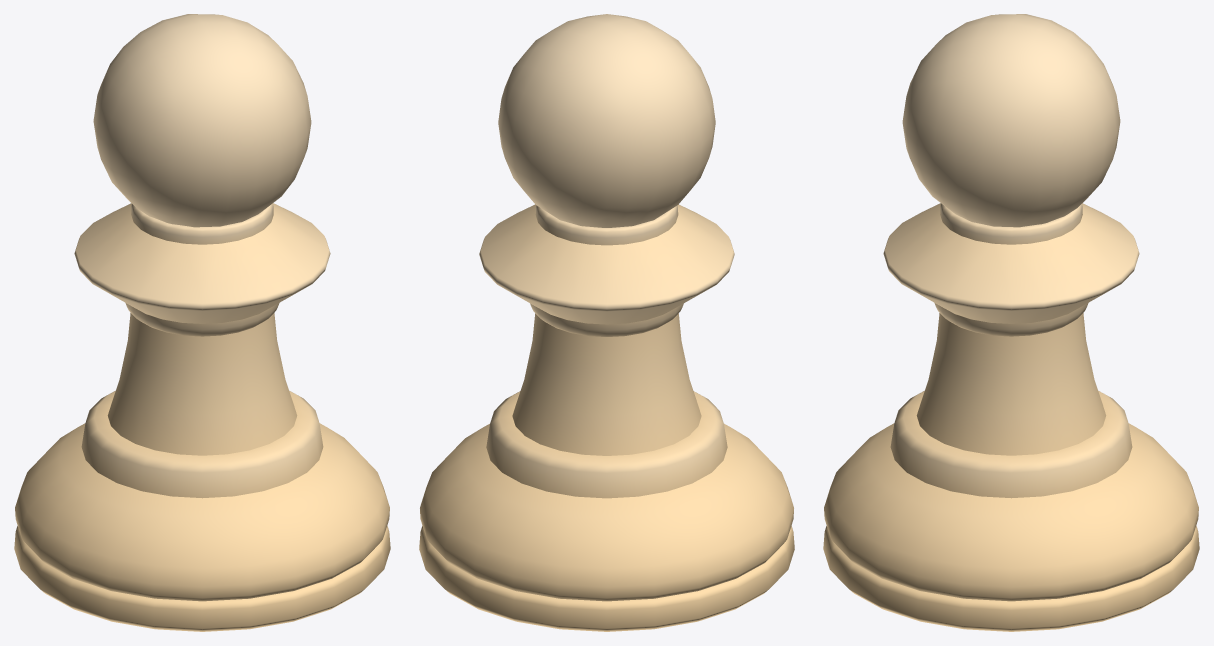
Rendered from Chess_White_Pawn_01.glb.
The picture shows the model from 3 angles, left to right: view 1: azimuth 30°, elevation 25°; view 2: azimuth 150°, elevation 25°; view 3: azimuth 270°, elevation 25°; orthographic projection.
Parts seen in each view (by area): view 1: Chess_White_Pawn_01; view 2: Chess_White_Pawn_01; view 3: Chess_White_Pawn_01.
Boxes of the visible parts, box(x1,y1,x2,y2) form: Chess_White_Pawn_01: box(14, 14, 390, 631); Chess_White_Pawn_01: box(419, 14, 794, 631); Chess_White_Pawn_01: box(823, 14, 1199, 631).
Size of the model in its own units: 0.0287 by 0.0454 by 0.0288.
2 materials, 2 textured.
